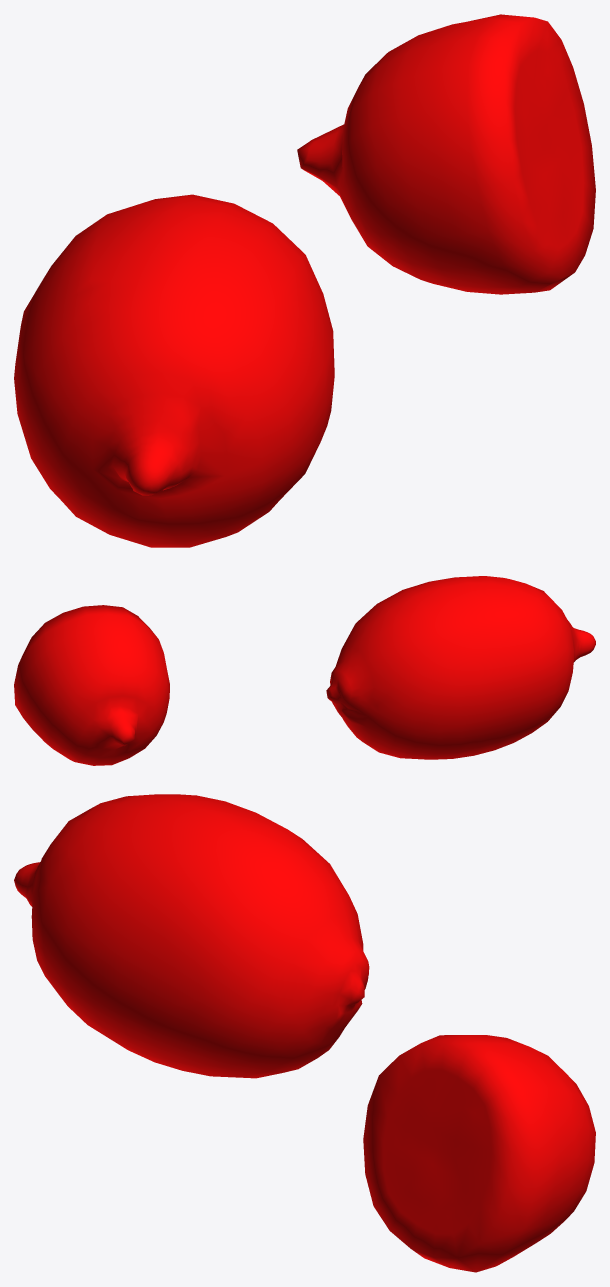
Rendered from lemons.FBX.
The picture shows the model from 3 angles, top to bottom: view 1: azimuth 30°, elevation 25°; view 2: azimuth 150°, elevation 25°; view 3: azimuth 270°, elevation 25°; orthographic projection. The views are drawn at different scales.
Visible parts, largest first — view 1: lemon1, lemon2; view 2: lemon1, lemon2; view 3: lemon1, lemon2.
Boxes of the visible parts, x1,y1,x2,y2 form: lemon1: [14, 194, 334, 547]; lemon2: [297, 14, 595, 294]; lemon1: [326, 576, 595, 759]; lemon2: [14, 605, 169, 765]; lemon1: [14, 794, 369, 1078]; lemon2: [363, 1035, 595, 1272].
Bounding box in the file's own units: 0.1946 × 0.0732 × 0.1561.
